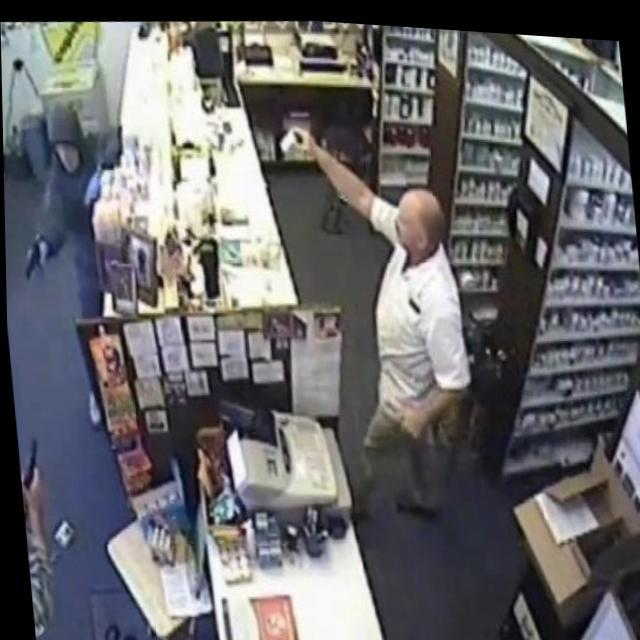weapon: (286, 116, 307, 166)
